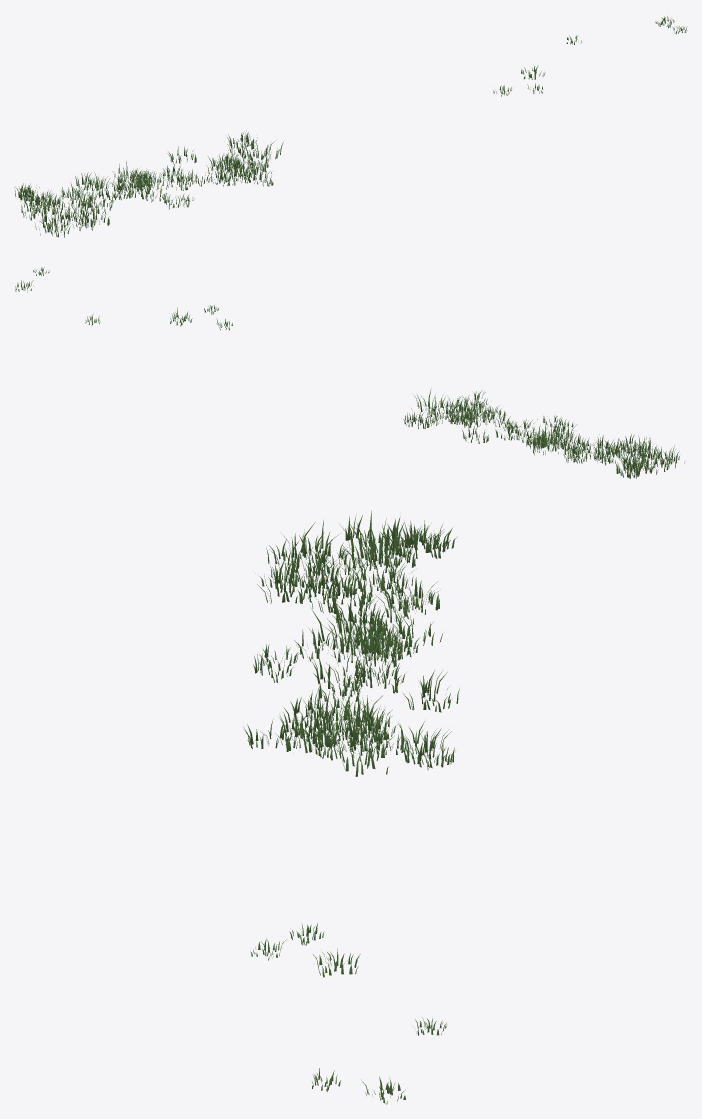
File: P2N_forest_grass_-9_7.glb
The picture shows the model from 3 angles, top to bottom: view 1: azimuth 30°, elevation 25°; view 2: azimuth 150°, elevation 25°; view 3: azimuth 270°, elevation 25°; orthographic projection. The views are drawn at different scales.
Parts seen in each view (by area): view 1: P2N_forest_grass_-9_7; view 2: P2N_forest_grass_-9_7; view 3: P2N_forest_grass_-9_7.
Part boxes in pixels (bbox=[...]): P2N_forest_grass_-9_7: bbox=[15, 16, 687, 237]; P2N_forest_grass_-9_7: bbox=[15, 267, 684, 478]; P2N_forest_grass_-9_7: bbox=[243, 510, 459, 1104].
Size of the model in its own units: 32.27 by 2.23 by 4.7.
